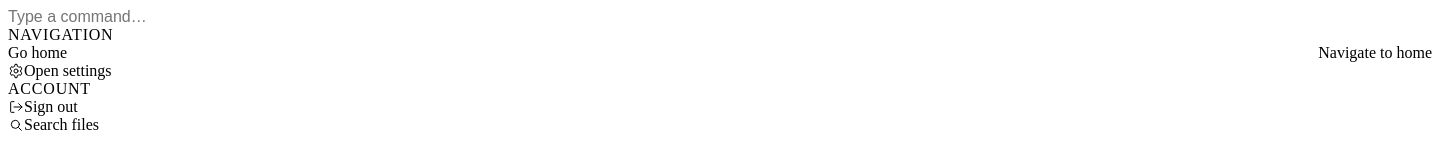
Test case: AppCommandPalette › filters commands by description substring
The image size is (1440, 160).
Type "navigate" into the dropdown with class "app-command-palette__input" at [720, 17], box [8,8,1432,26]
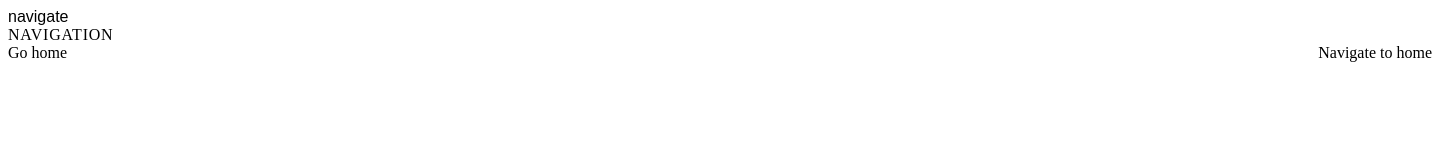
Expected: the text with class "app-command-palette__label" reads "Go home", [8,44,67,61]
Expected: the number of options with class "app-command-palette__item" is 1, [8,44,1432,62]
